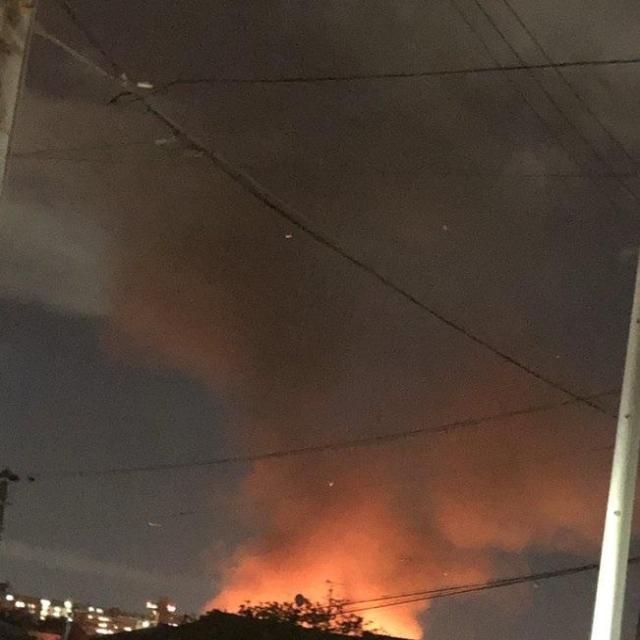Fire: (359, 610, 417, 637)
